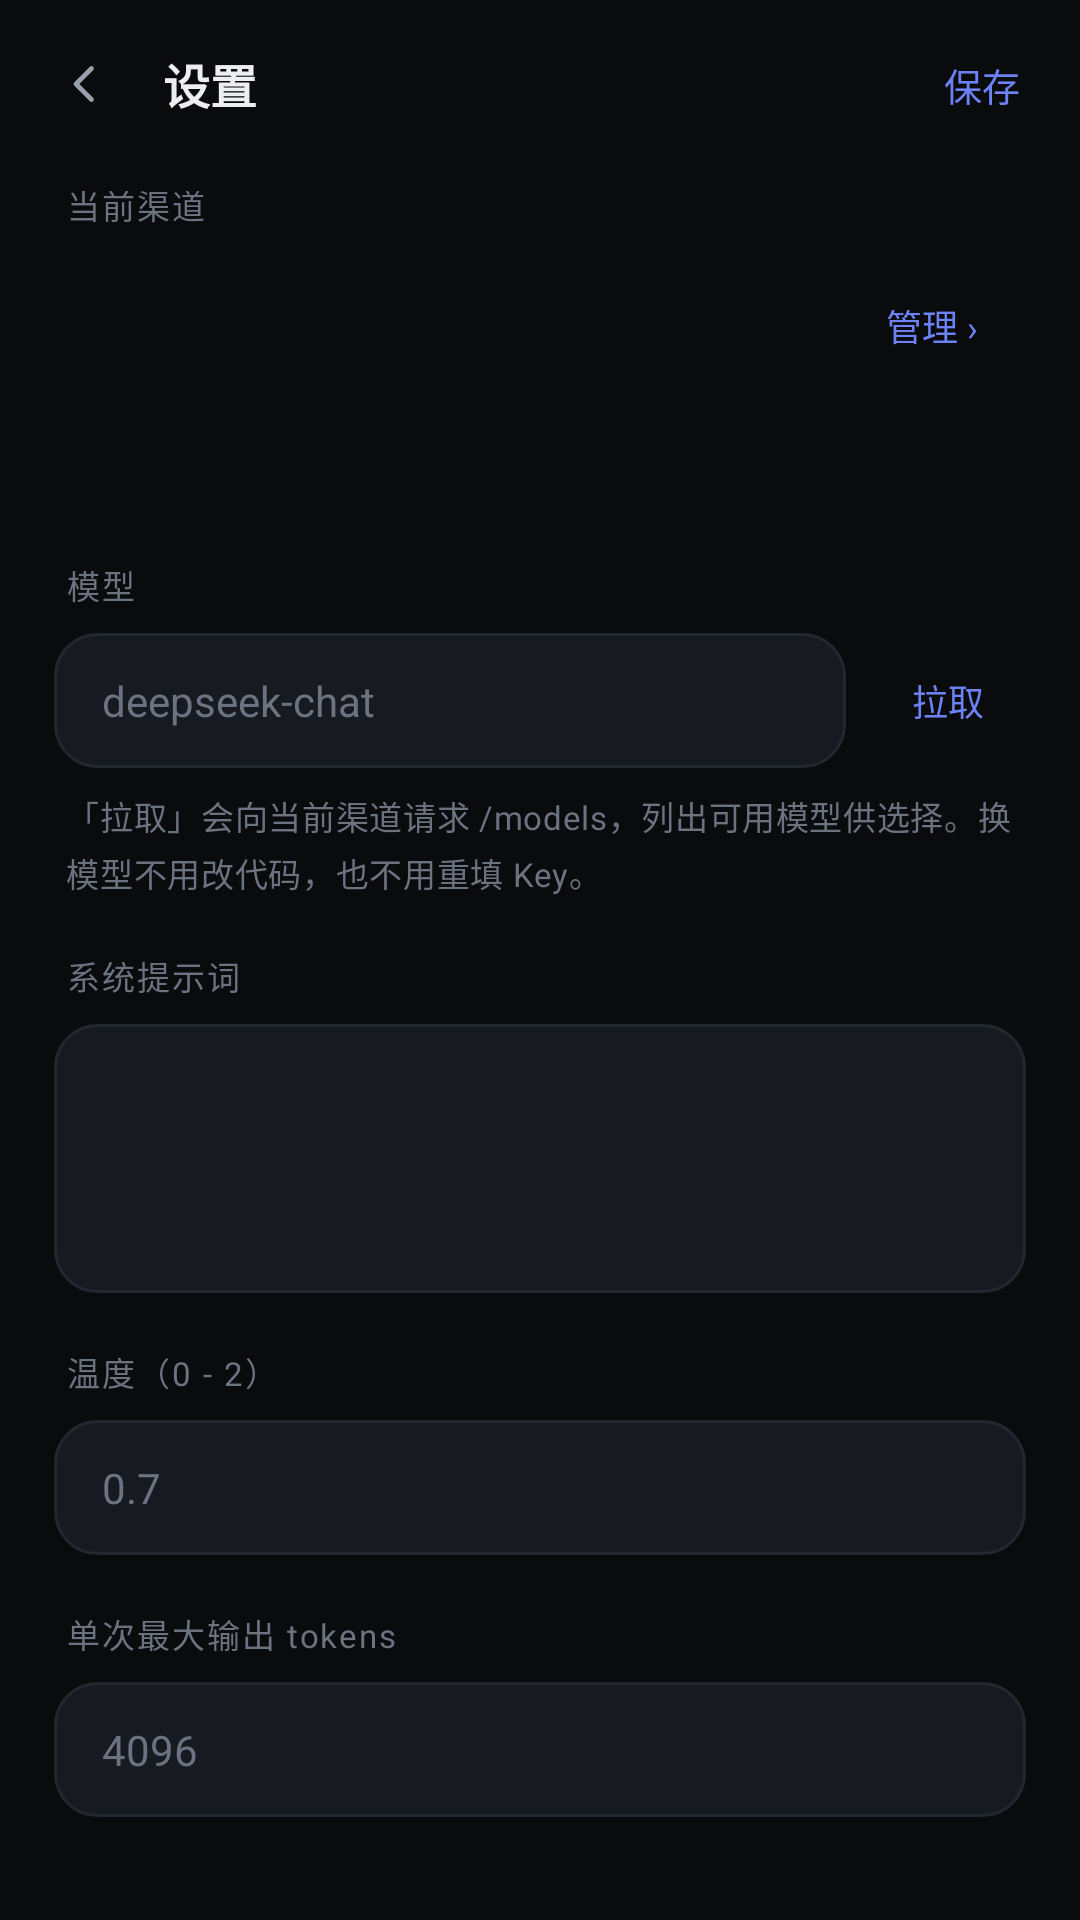

Icon bounding boxes for this 1080px x 1920px phone screenshot, format {"x1": x1, "y1": y1, "x2": x2, "y2": y2}:
返回: {"x1": 73, "y1": 66, "x2": 94, "y2": 102}
